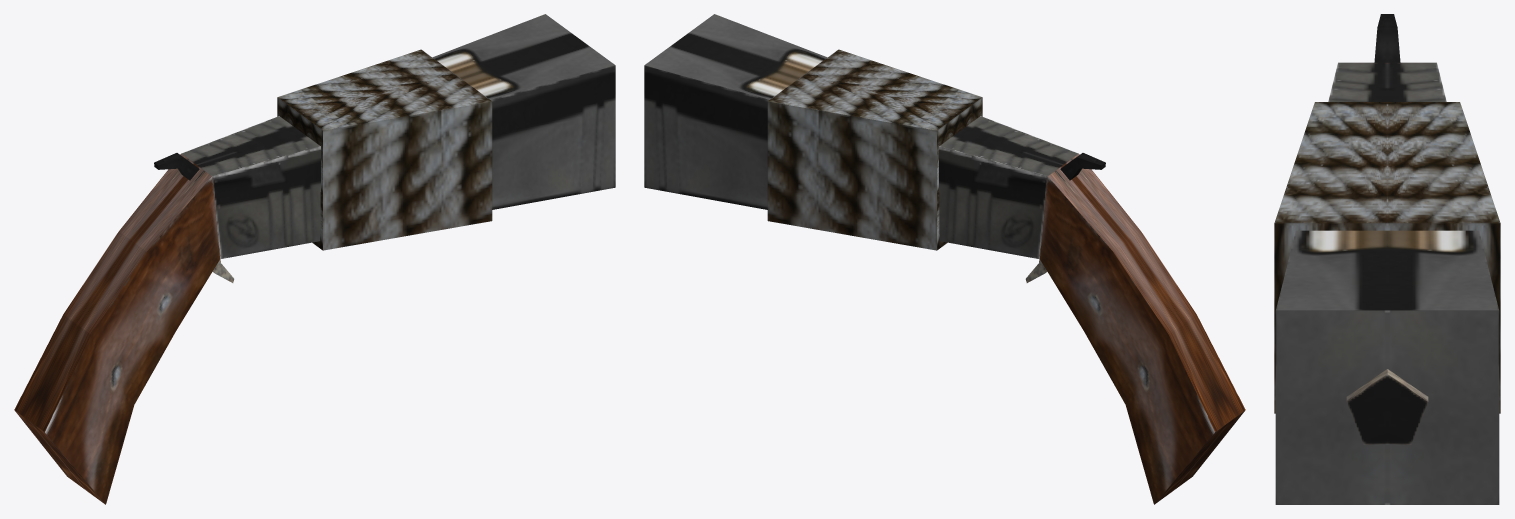
The model's file is Grapple hook maybe.fbx.
3 views of the same model, side by side, from view 1: azimuth 30°, elevation 25°; view 2: azimuth 150°, elevation 25°; view 3: azimuth 270°, elevation 25° (orthographic). The views are drawn at different scales.
Visible parts, largest first — view 1: gun.001; view 2: gun.001; view 3: gun.001.
Part boxes in pixels (left/top/right/bottom): gun.001: left=14, top=14, right=615, bottom=504; gun.001: left=644, top=14, right=1245, bottom=504; gun.001: left=1274, top=14, right=1500, bottom=504.
Size of the model in its own units: 0.8046 by 0.4556 by 0.1776.
